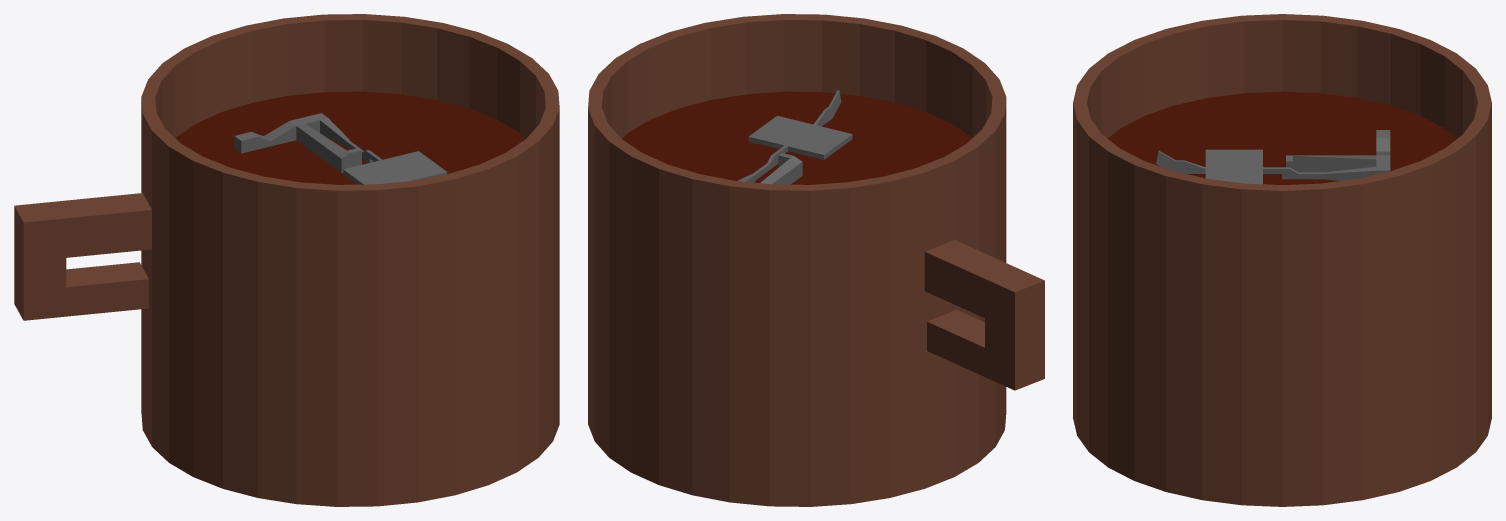
File: level.glb
3 renders of one model, left to right at view 1: azimuth 30°, elevation 25°; view 2: azimuth 150°, elevation 25°; view 3: azimuth 270°, elevation 25°, orthographic.
Visible parts, largest first — view 1: level-colonly; view 2: level-colonly; view 3: level-colonly.
Boxes of the visible parts, x1,y1,x2,y2 form: level-colonly: [14, 14, 559, 506]; level-colonly: [588, 14, 1044, 506]; level-colonly: [1073, 14, 1491, 506].
Size of the model in its own units: 77.98 by 50.25 by 60.38.
